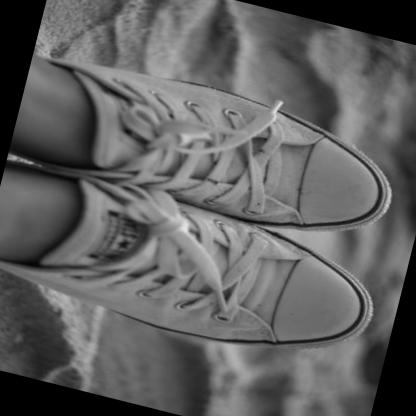ankle: (91, 147, 102, 155), (86, 207, 92, 212)
heel: (14, 151, 22, 157), (16, 174, 21, 179)
left_foot: (10, 44, 405, 249)
pinky: (284, 333, 295, 340), (325, 144, 336, 150)
right_foot: (1, 162, 381, 375)
toe: (333, 209, 351, 222), (324, 274, 337, 283)
